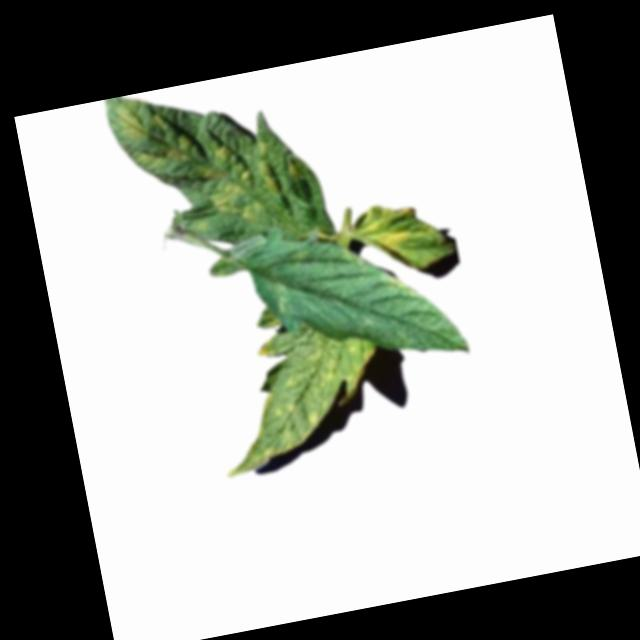Leaf_Mold: (199, 316, 392, 479), (103, 72, 280, 243), (352, 198, 424, 277), (266, 279, 296, 318)
